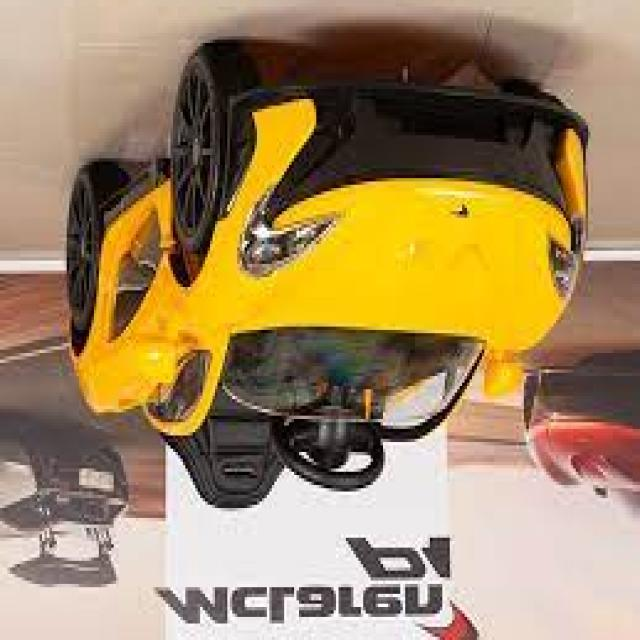Car: (62, 43, 590, 511), (0, 419, 128, 591), (522, 353, 638, 528)
